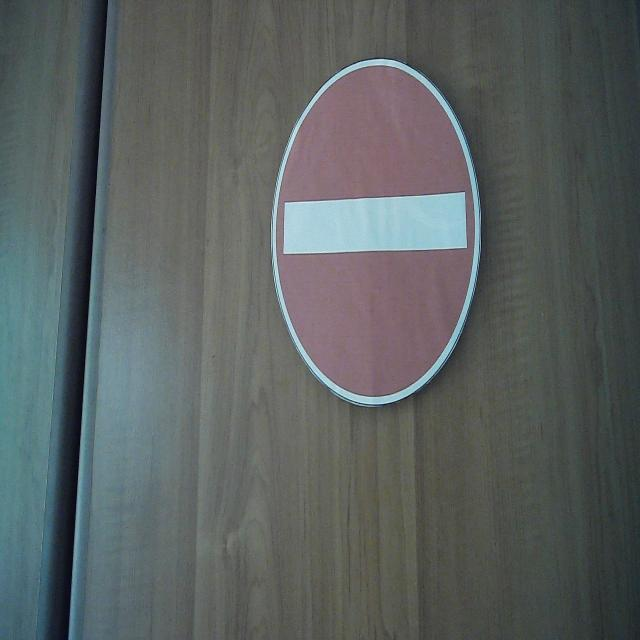no_entry: (269, 54, 484, 410)
